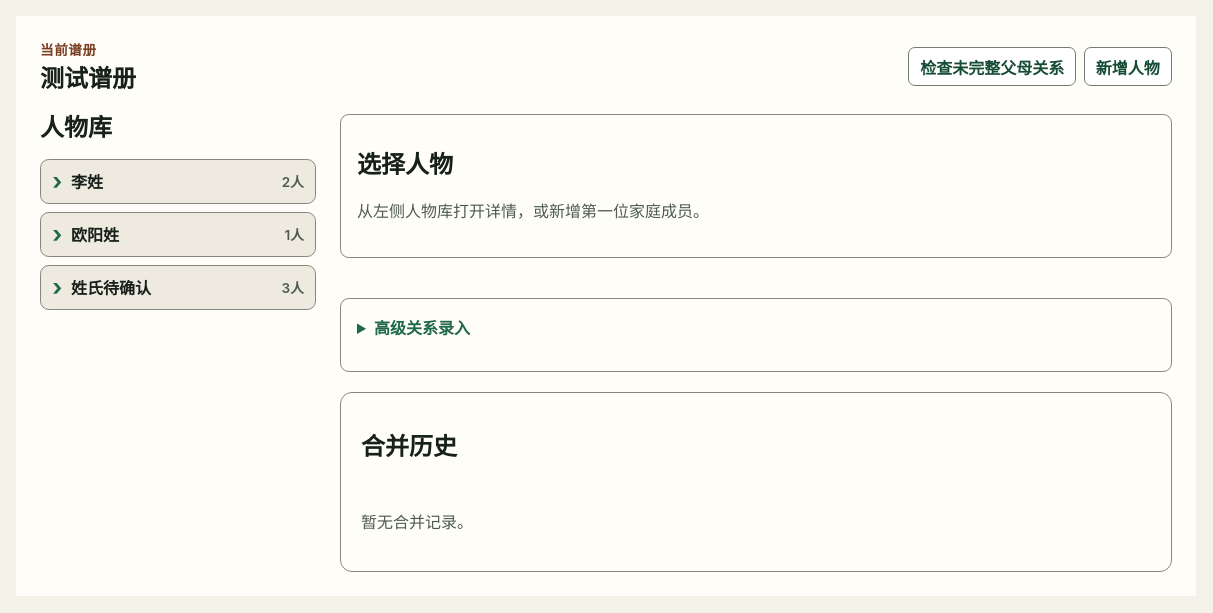
Test: PeoplePage surname groups › expands and collapses one surname without opening other groups
Click the button with aria-label "李姓（2人）". click: (87, 182)
box: [40,158,316,204]
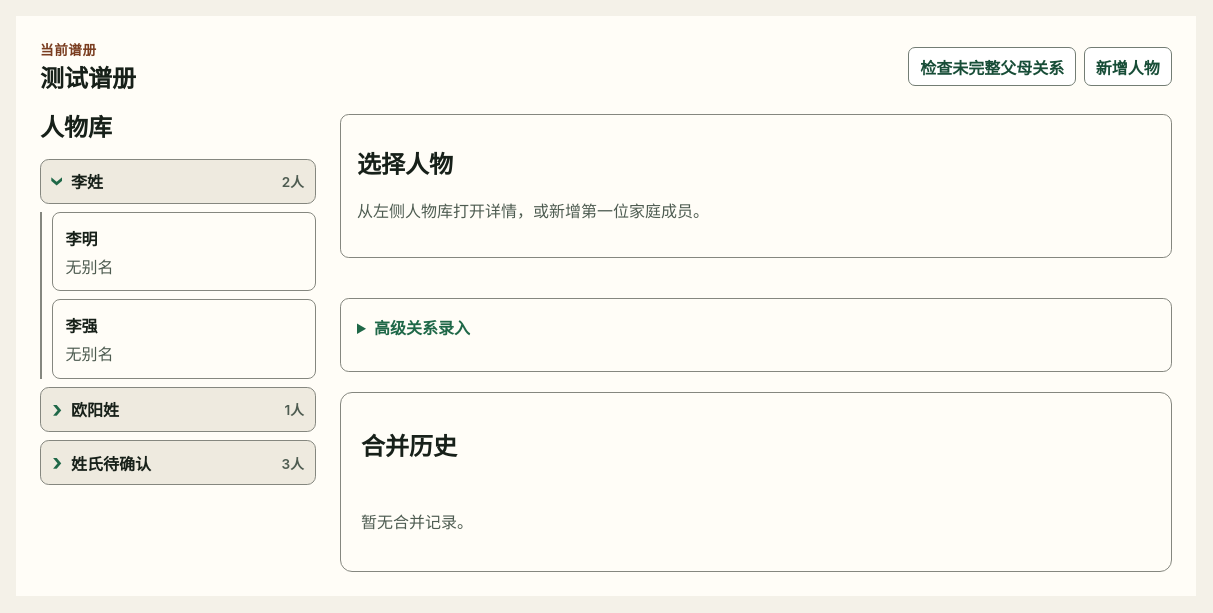
expect the button with aria-label "李姓（2人）" is expanded: met
expect the button with aria-label "查看李明" is shown: met, box [52,212,316,291]
Click the button with aria-label "李姓（2人）". click: (87, 182)
box: [40,158,316,204]
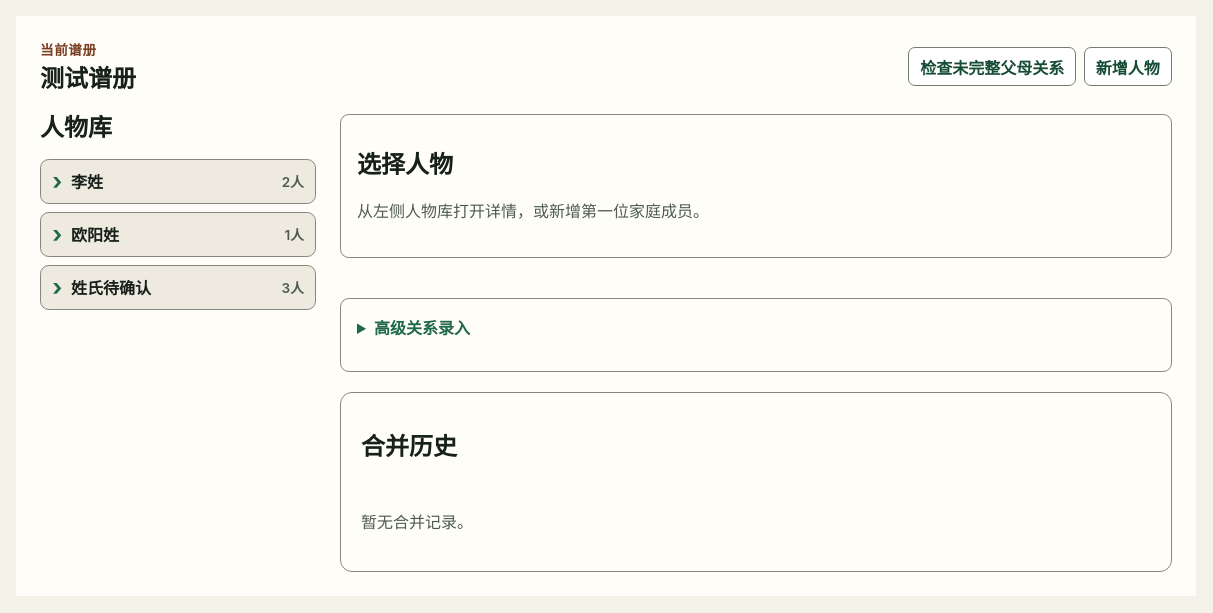
expect the button with aria-label "李姓（2人）" is collapsed: met, box [40,158,316,204]
expect the button "查看李明" is gone: met
